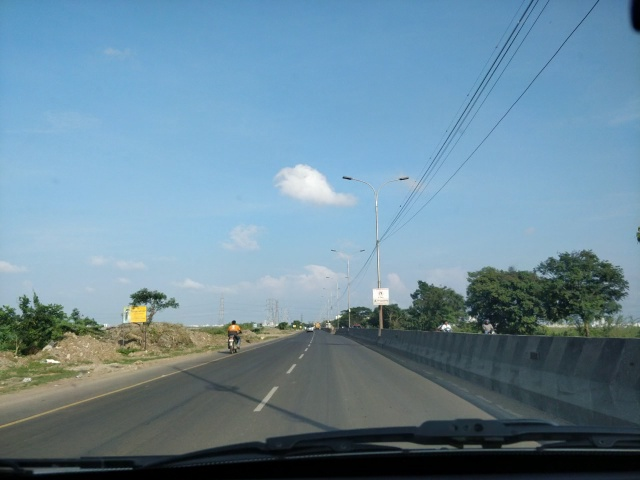motorbike: (222, 318, 245, 358)
